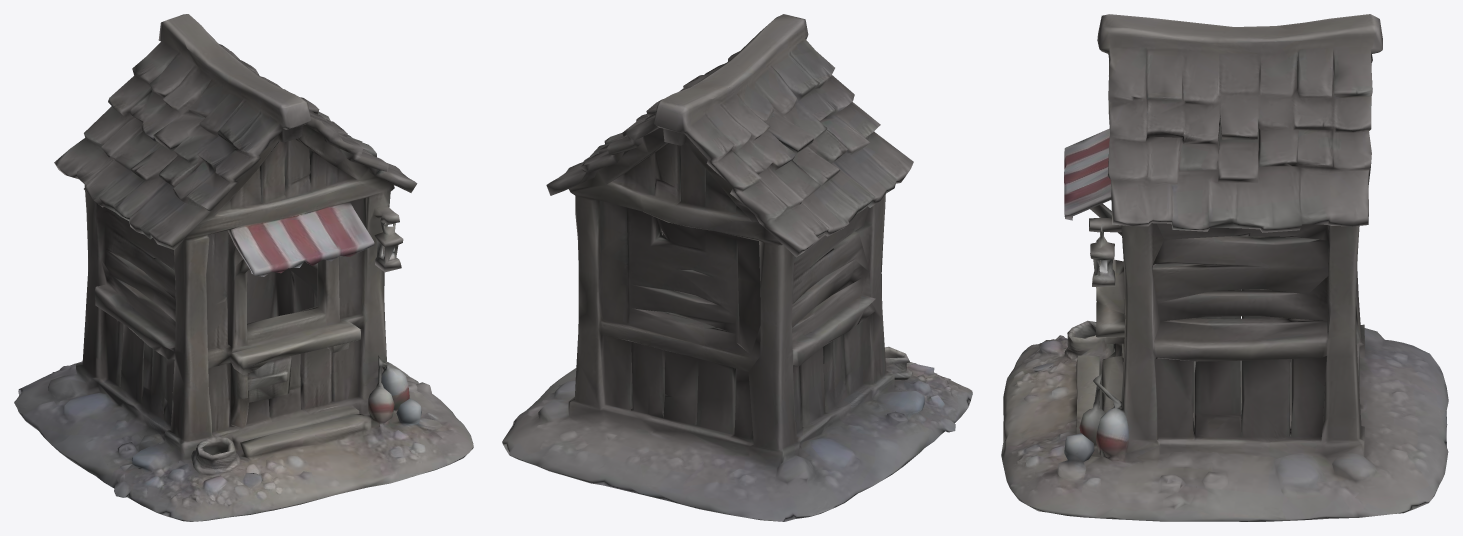
The model's file is fishing_jetty_hut.glb.
3 views of the same model, side by side, from view 1: azimuth 30°, elevation 25°; view 2: azimuth 150°, elevation 25°; view 3: azimuth 270°, elevation 25° (orthographic). The views are drawn at different scales.
Parts seen in each view (by area): view 1: tripo_node_67c513f6-cede-4b00-acda-4ae4f2fa764d; view 2: tripo_node_67c513f6-cede-4b00-acda-4ae4f2fa764d; view 3: tripo_node_67c513f6-cede-4b00-acda-4ae4f2fa764d.
Boxes of the visible parts, <box> form: tripo_node_67c513f6-cede-4b00-acda-4ae4f2fa764d: <box>14,14,473,521</box>; tripo_node_67c513f6-cede-4b00-acda-4ae4f2fa764d: <box>502,14,972,521</box>; tripo_node_67c513f6-cede-4b00-acda-4ae4f2fa764d: <box>1001,14,1448,521</box>.
Bounding box in the file's own units: 0.989 × 1 × 0.9919.
Materials: 1 (1 with a texture image).
